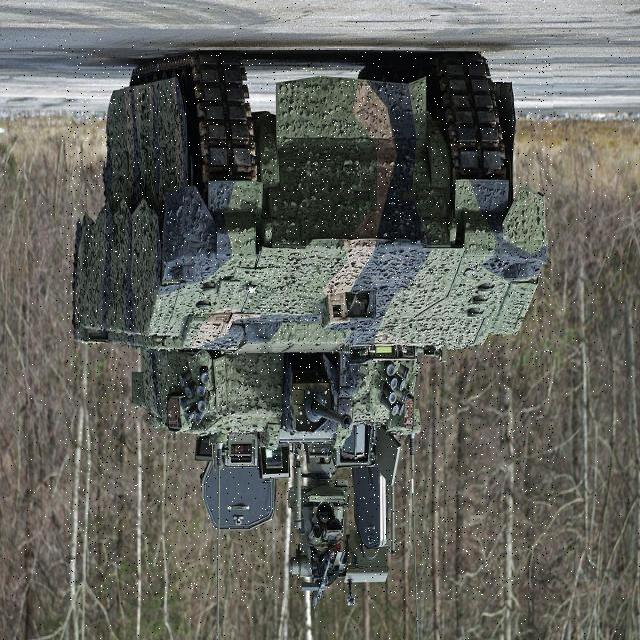MIL_MBT: (66, 49, 553, 599)
